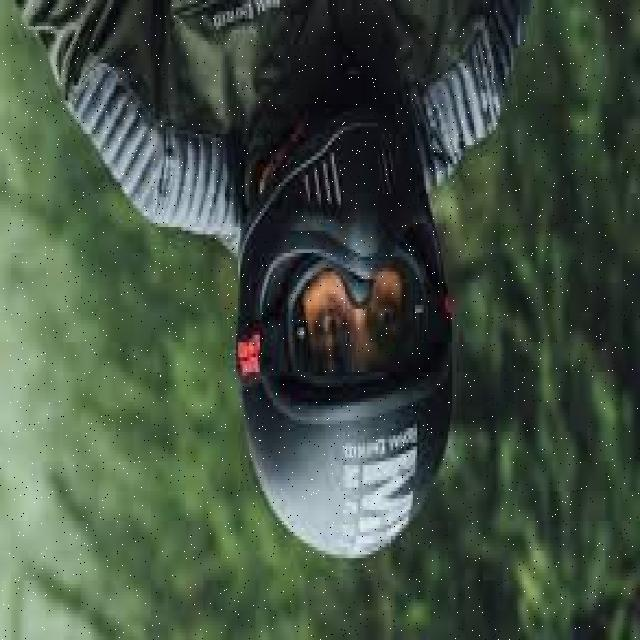Helmet: (206, 114, 494, 580)
